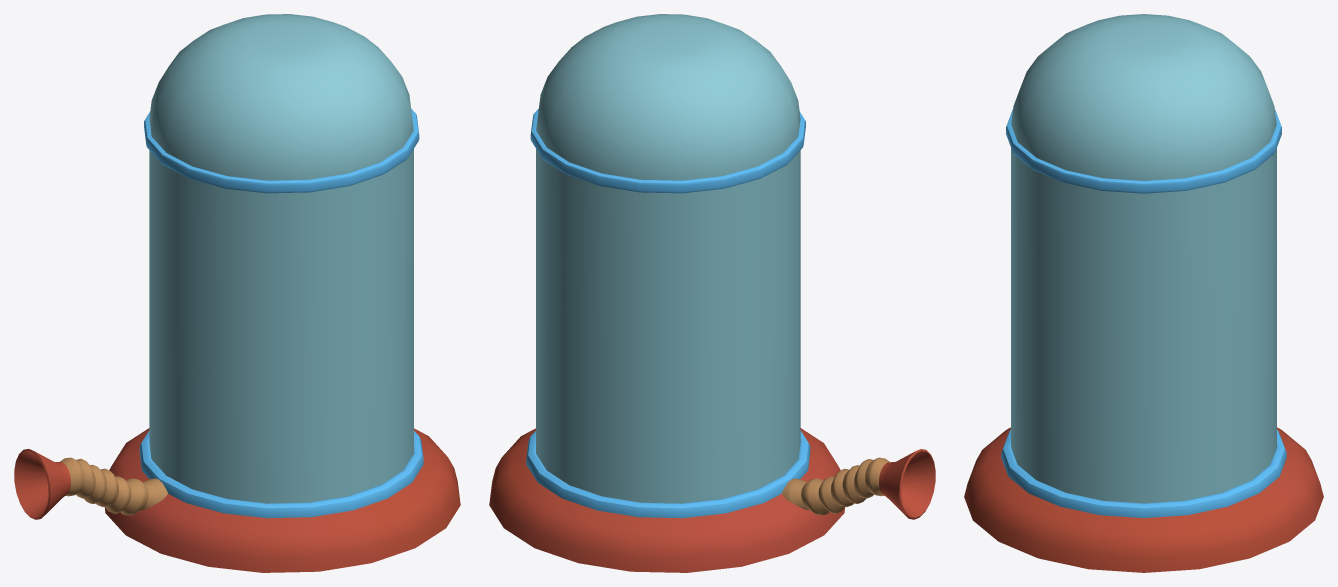
File: lab.fbx
3 views of the same model, side by side, from view 1: azimuth 30°, elevation 25°; view 2: azimuth 150°, elevation 25°; view 3: azimuth 270°, elevation 25° (orthographic).
Parts seen in each view (by area): view 1: lab, polySurface305; view 2: lab, polySurface305; view 3: lab.
Part boxes in pixels (bbox=[...]): lab: bbox=[104, 14, 460, 572]; polySurface305: bbox=[14, 449, 168, 519]; lab: bbox=[489, 14, 845, 572]; polySurface305: bbox=[781, 449, 935, 519]; lab: bbox=[964, 14, 1323, 572].
Size of the model in its own units: 20.6 by 22.14 by 15.74.
